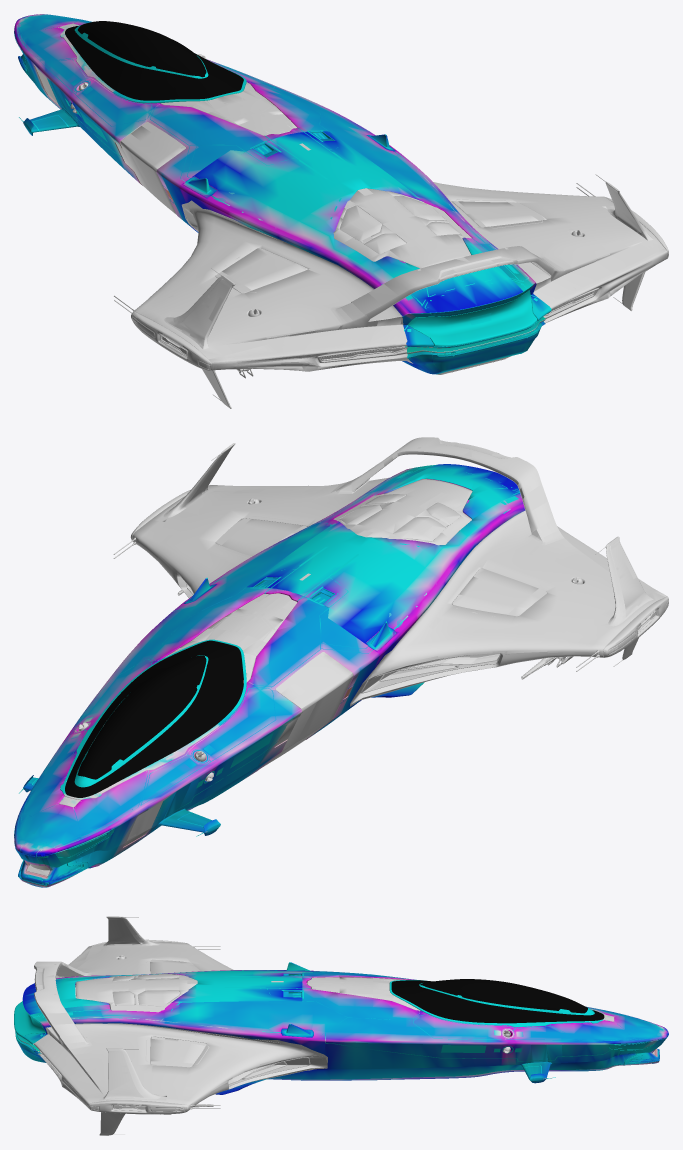
The picture shows the model from 3 angles, top to bottom: view 1: azimuth 30°, elevation 25°; view 2: azimuth 150°, elevation 25°; view 3: azimuth 270°, elevation 25°; orthographic projection. The views are drawn at different scales.
Visible parts, largest first — view 1: ORIG 135c_body, ORIG 135c_dark_window, ORIG 135c_window; view 2: ORIG 135c_body, ORIG 135c_dark_window, ORIG 135c_window; view 3: ORIG 135c_body, ORIG 135c_dark_window, ORIG 135c_window.
Boxes of the visible parts, x1,y1,x2,y2 form: ORIG 135c_body: (14,14,668,408); ORIG 135c_dark_window: (65,26,243,100); ORIG 135c_window: (78,21,206,77); ORIG 135c_body: (14,437,668,887); ORIG 135c_dark_window: (65,640,243,797); ORIG 135c_window: (77,655,206,779); ORIG 135c_body: (14,916,668,1135); ORIG 135c_dark_window: (391,980,604,1023); ORIG 135c_window: (420,979,587,1013).
Bounding box in the file's own units: 50.52 × 13.61 × 84.45.
